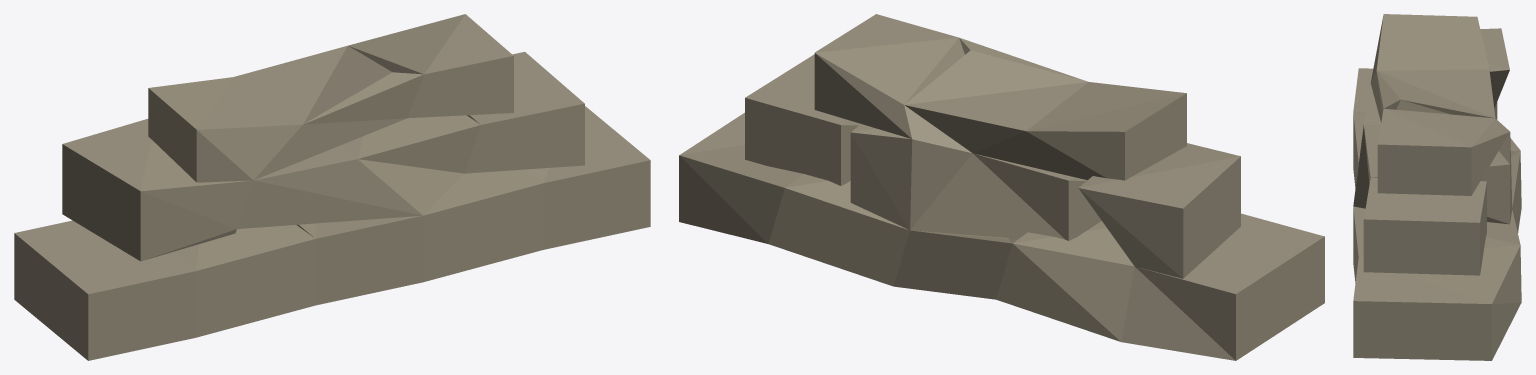
Rendered from barricade.lod2.glb.
3 renders of one model, left to right at view 1: azimuth 30°, elevation 25°; view 2: azimuth 150°, elevation 25°; view 3: azimuth 270°, elevation 25°, orthographic. The views are drawn at different scales.
Size of the model in its own units: 2.49 by 0.8 by 0.7518.
